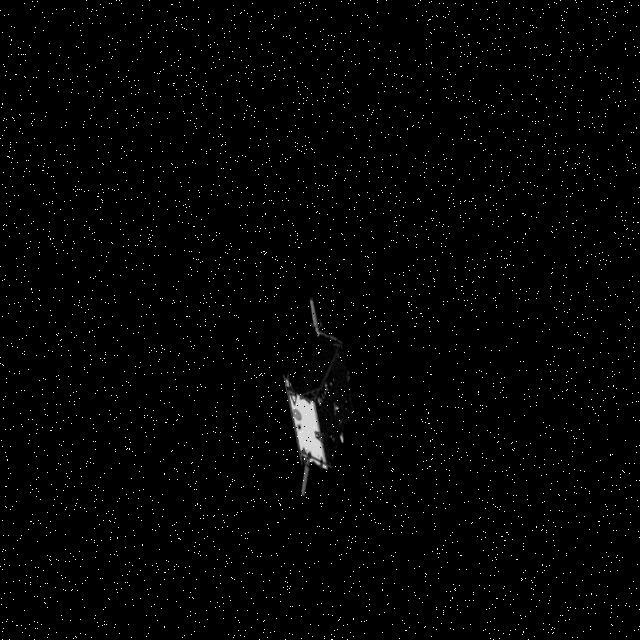satellite: (288, 290, 384, 504)
